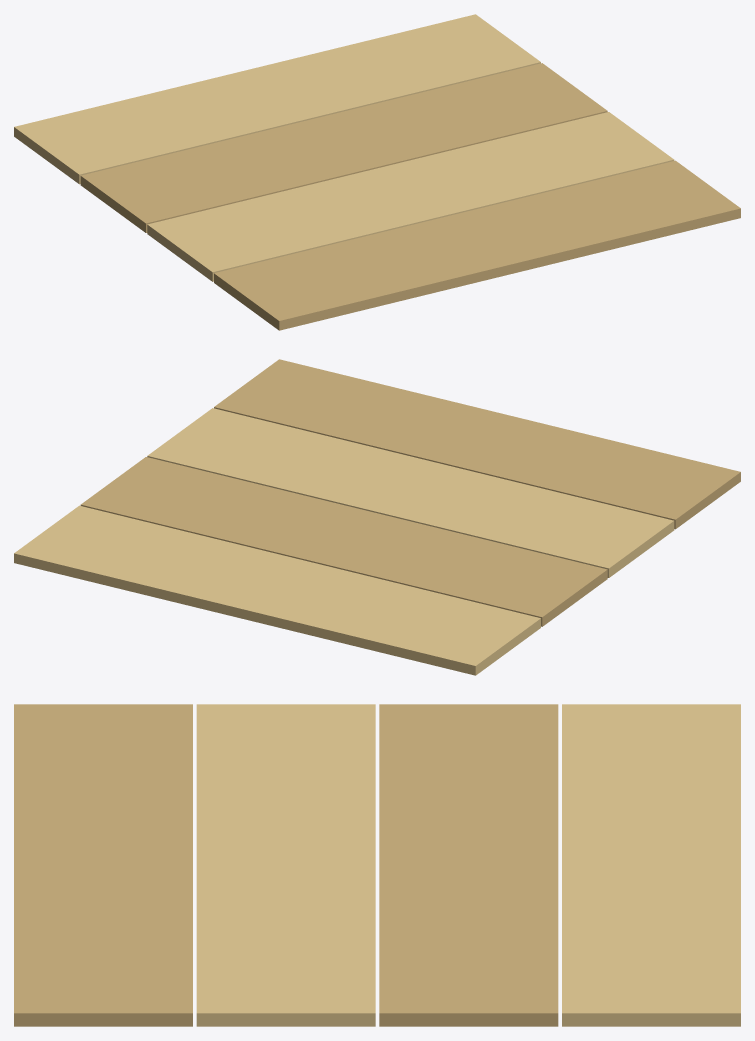
The model's file is sand_tile.obj.
3 views of the same model, one above another, from view 1: azimuth 30°, elevation 25°; view 2: azimuth 150°, elevation 25°; view 3: azimuth 270°, elevation 25° (orthographic). The views are drawn at different scales.
Visible parts, largest first — view 1: sand_tile; view 2: sand_tile; view 3: sand_tile.
Part boxes in pixels (left/top/right/bottom): sand_tile: left=14, top=14, right=740, bottom=330; sand_tile: left=14, top=359, right=740, bottom=675; sand_tile: left=14, top=704, right=740, bottom=1026.
Size of the model in its own units: 1 by 0.02 by 0.995.
